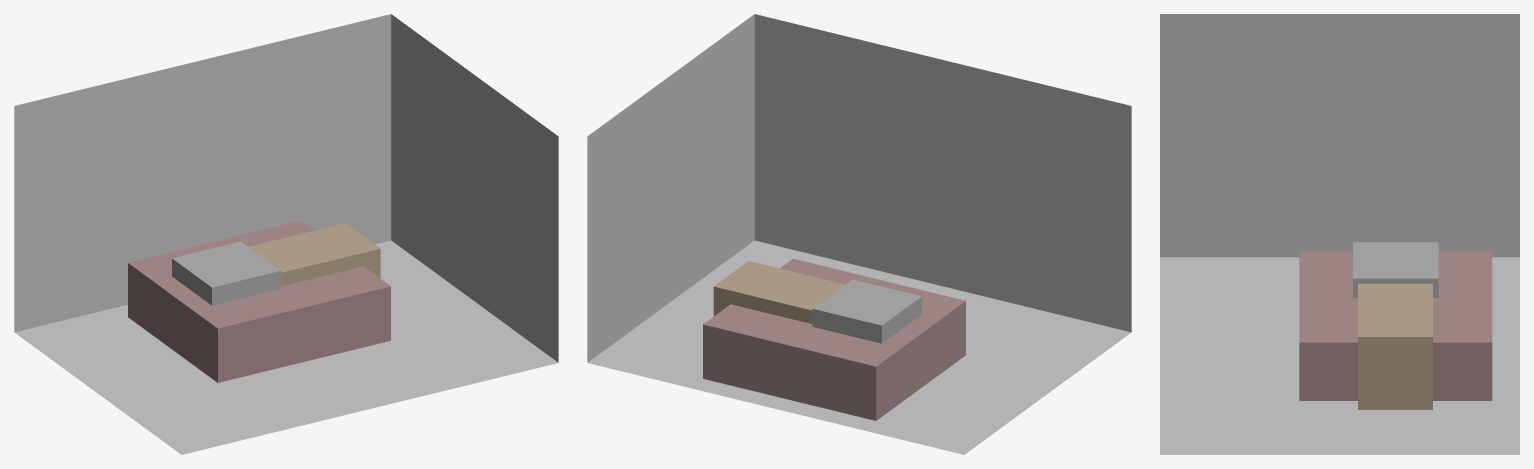
File: current_layout.glb
The picture shows the model from 3 angles, left to right: view 1: azimuth 30°, elevation 25°; view 2: azimuth 150°, elevation 25°; view 3: azimuth 270°, elevation 25°; orthographic projection. The views are drawn at different scales.
Parts seen in each view (by area): view 1: room, bed, desk, wardrobe; view 2: room, bed, desk, wardrobe; view 3: room, bed, desk, wardrobe.
Boxes of the visible parts, x1=… form: room: x1=14, y1=14, x2=558, y2=454; bed: x1=128, y1=220, x2=390, y2=382; desk: x1=249, y1=223, x2=380, y2=286; wardrobe: x1=172, y1=241, x2=281, y2=305; room: x1=587, y1=14, x2=1131, y2=454; bed: x1=703, y1=258, x2=965, y2=420; desk: x1=713, y1=261, x2=845, y2=323; wardrobe: x1=812, y1=279, x2=921, y2=343; room: x1=1160, y1=14, x2=1519, y2=454; bed: x1=1299, y1=251, x2=1492, y2=400; desk: x1=1358, y1=283, x2=1432, y2=409; wardrobe: x1=1353, y1=242, x2=1438, y2=297.
Size of the model in its own units: 4.36 by 2.5 by 3.35.
